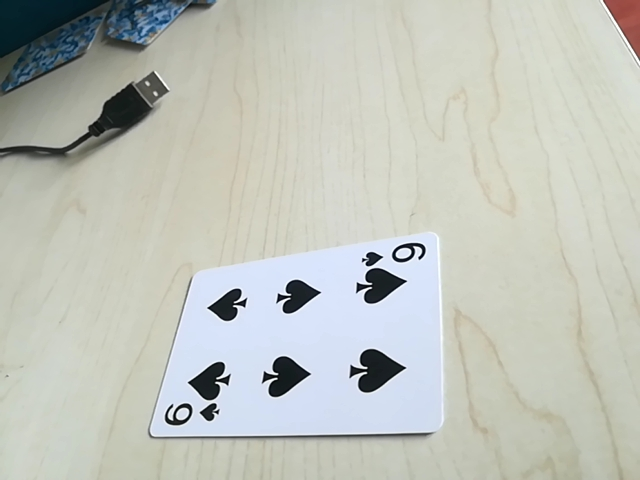ht 6: (360, 238, 430, 270), (154, 399, 223, 431)
